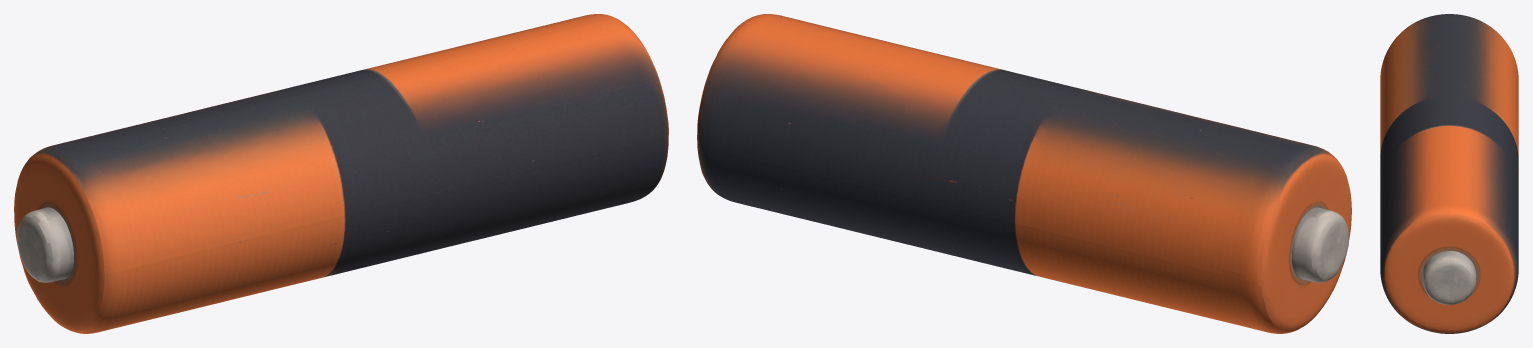
The model's file is Meshy_AI_Battery_1122025628_texture.glb.
3 views of the same model, side by side, from view 1: azimuth 30°, elevation 25°; view 2: azimuth 150°, elevation 25°; view 3: azimuth 270°, elevation 25° (orthographic). The views are drawn at different scales.
Parts seen in each view (by area): view 1: Mesh0; view 2: Mesh0; view 3: Mesh0.
Part boxes in pixels (<box>): Mesh0: <box>14,14,668,333</box>; Mesh0: <box>697,14,1351,333</box>; Mesh0: <box>1380,14,1518,333</box>.
Size of the model in its own units: 1.9 by 0.5116 by 0.5075.
Materials: 1 (1 with a texture image).
